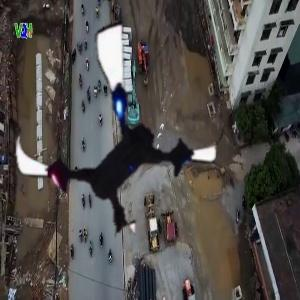drone: (6, 22, 230, 246)
